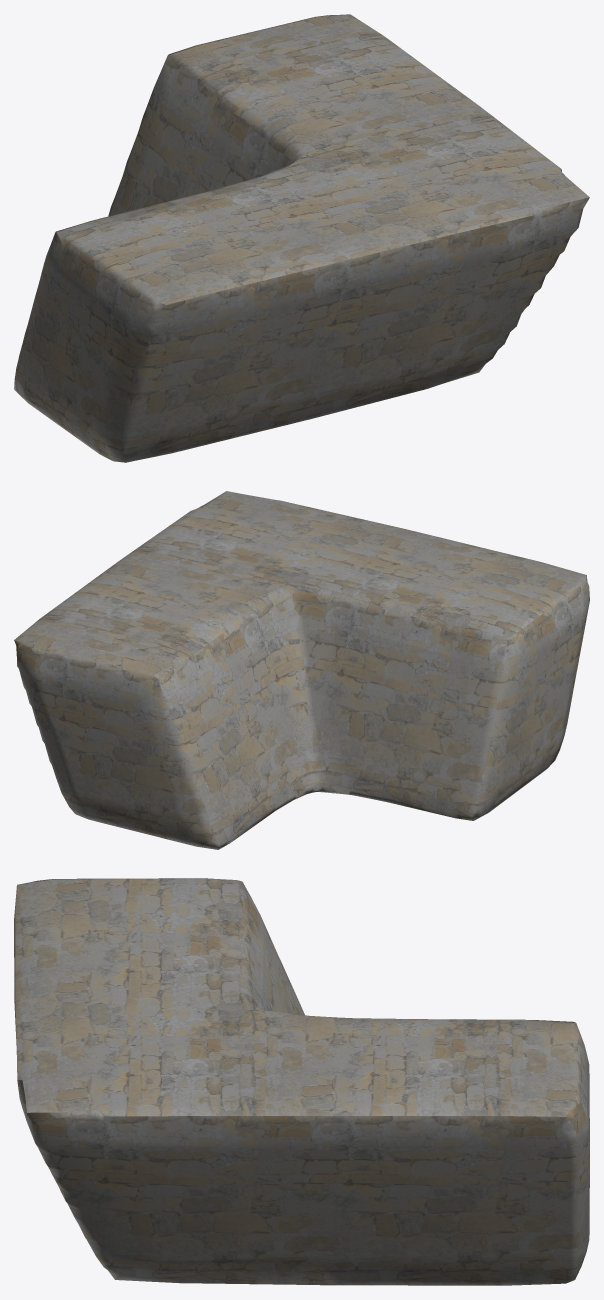
The model's file is Corner.glb.
The picture shows the model from 3 angles, top to bottom: view 1: azimuth 30°, elevation 25°; view 2: azimuth 150°, elevation 25°; view 3: azimuth 270°, elevation 25°; orthographic projection. The views are drawn at different scales.
Parts seen in each view (by area): view 1: Corner; view 2: Corner; view 3: Corner.
Part boxes in pixels (x1=…): Corner: x1=14, y1=14, x2=589, y2=462; Corner: x1=14, y1=491, x2=589, y2=849; Corner: x1=14, y1=878, x2=589, y2=1285.
Size of the model in its own units: 11.77 by 5 by 11.77.
Materials: 1 (1 with a texture image).
